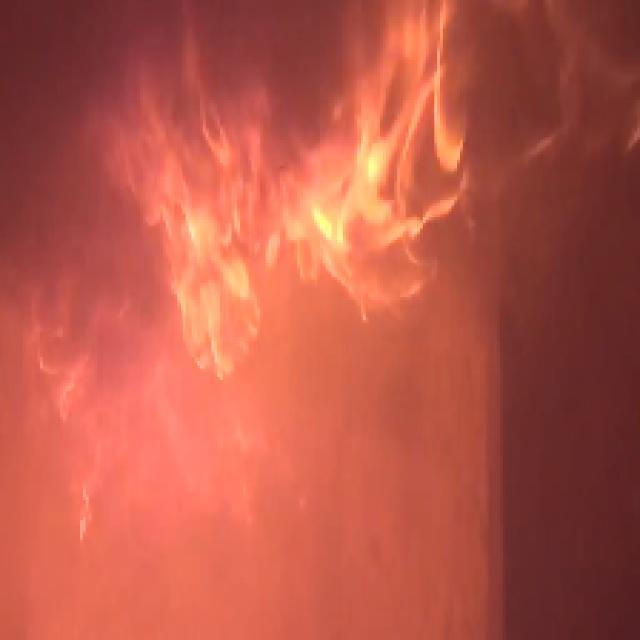Fire: (134, 26, 466, 348)
Smoke: (479, 8, 632, 314), (9, 2, 126, 354)
